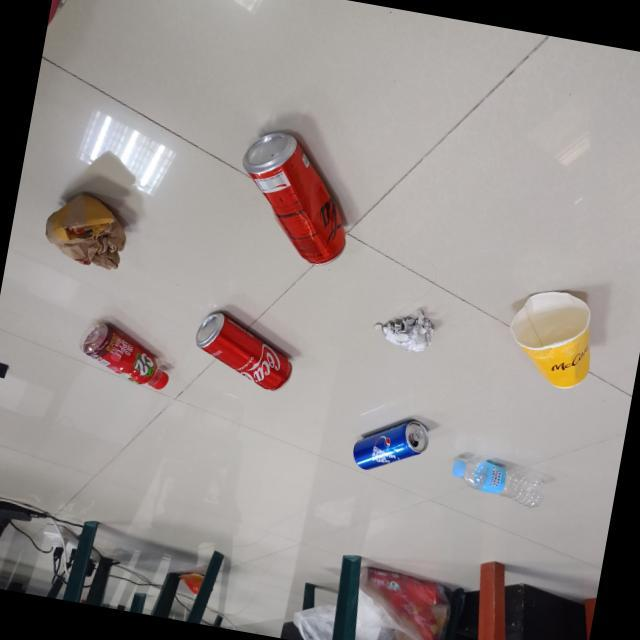recyclable waste: (222, 119, 370, 276), (496, 277, 606, 398), (185, 302, 305, 400), (36, 180, 140, 280), (68, 314, 181, 398), (342, 404, 436, 485), (446, 448, 558, 514), (362, 299, 442, 362)
